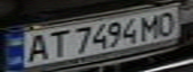4: (90, 20, 112, 51), (121, 16, 142, 44)
7: (69, 25, 93, 55)
9: (106, 19, 127, 47)
A: (21, 32, 51, 63)
M: (136, 11, 166, 40)
O: (151, 9, 184, 37)
T: (42, 28, 69, 58)
